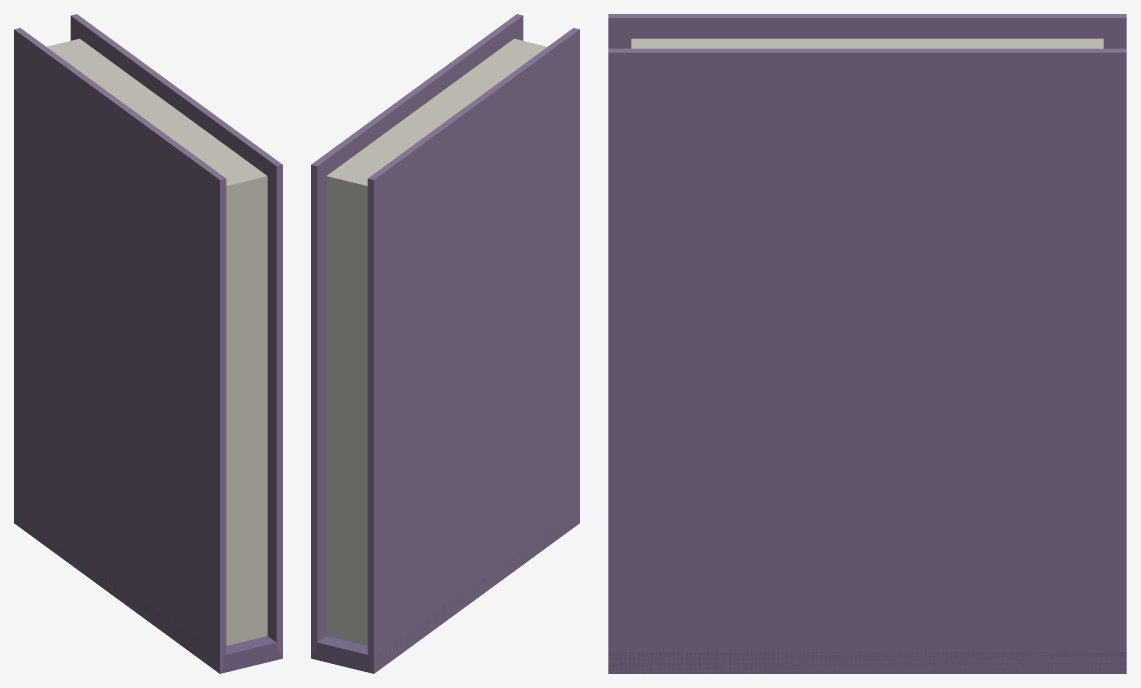
Rendered from book_upright.glb.
3 renders of one model, left to right at view 1: azimuth 30°, elevation 25°; view 2: azimuth 150°, elevation 25°; view 3: azimuth 270°, elevation 25°, orthographic. The views are drawn at different scales.
Visible parts, largest first — view 1: Front_Cover, Pages, Back_Cover, Spine; view 2: Front_Cover, Pages, Back_Cover, Spine; view 3: Back_Cover, Front_Cover, Spine, Pages.
Boxes of the visible parts, box(x1,y1,x2,y2) form: Front_Cover: box(14, 28, 226, 673); Pages: box(46, 38, 267, 645); Back_Cover: box(70, 14, 282, 658); Spine: box(14, 510, 282, 673); Front_Cover: box(367, 28, 579, 673); Pages: box(326, 38, 547, 645); Back_Cover: box(311, 14, 523, 658); Spine: box(311, 510, 579, 673); Back_Cover: box(608, 48, 1126, 673); Front_Cover: box(608, 14, 1126, 48); Spine: box(608, 652, 1126, 673); Pages: box(631, 38, 1103, 48).
Bounding box in the file's own units: 0.03 × 0.225 × 0.17.
